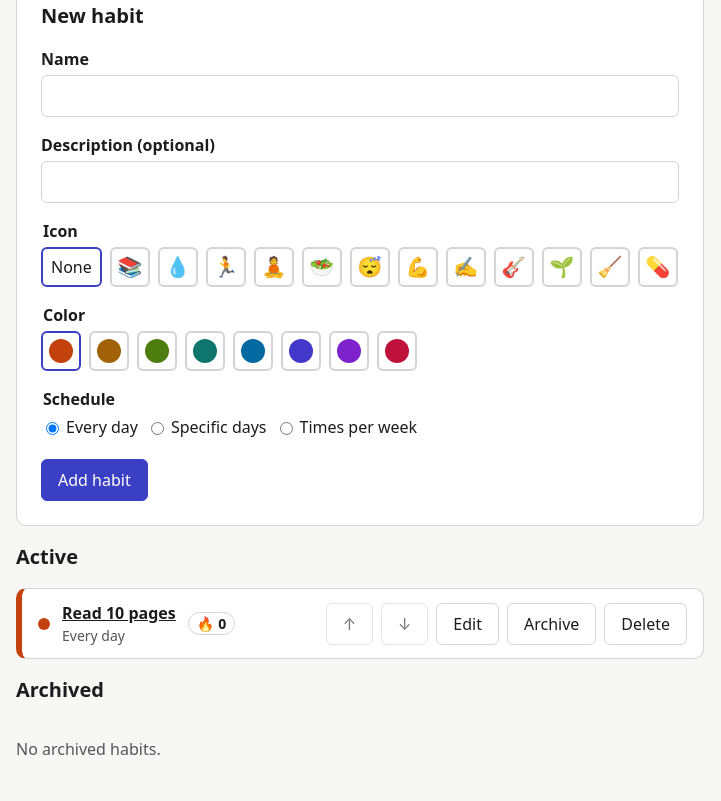
Test: spec 002 US2 - Edit a habit › given an existing habit, when renamed and saved, then the new name shows
(page scrolled)
Click the button with aria-label "Edit Read 10 pages": (468,624) [436,602,499,644]
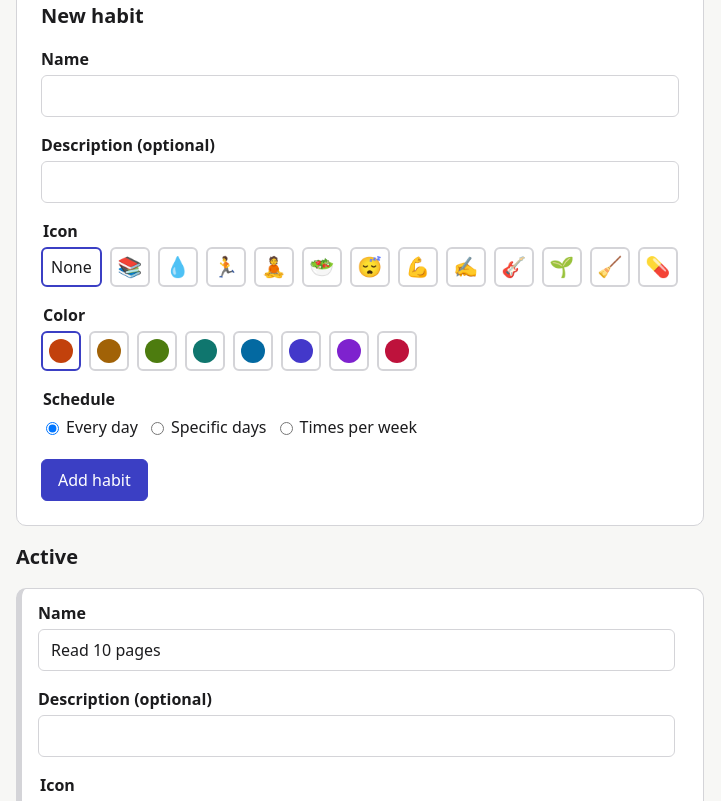
Replace the text in the field labelled "Name" below "Active" with "Read 20 pages": (356,650) [38,629,675,671]
(page scrolled)
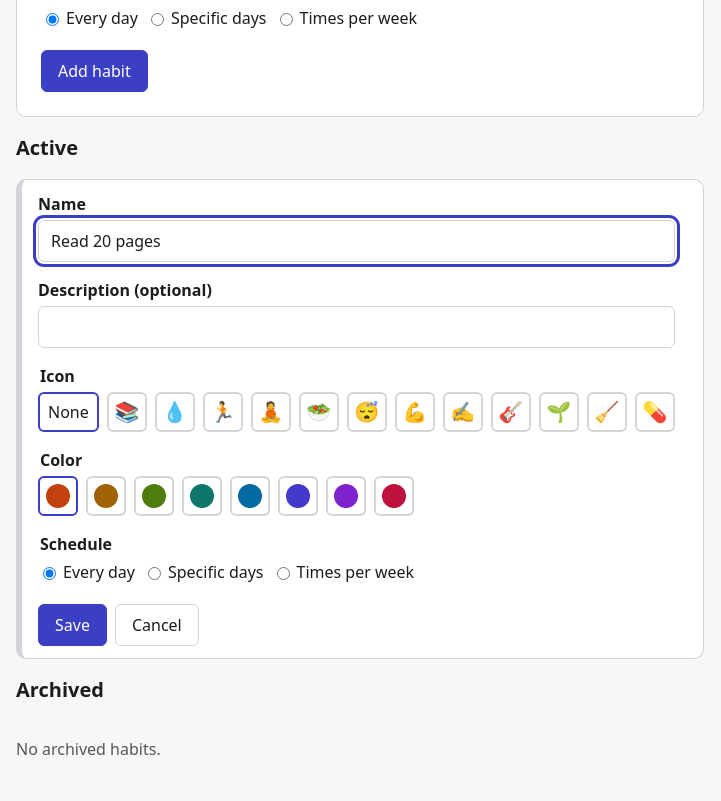
Click the button "Save": (72,625) [38,604,107,646]
(page scrolled)
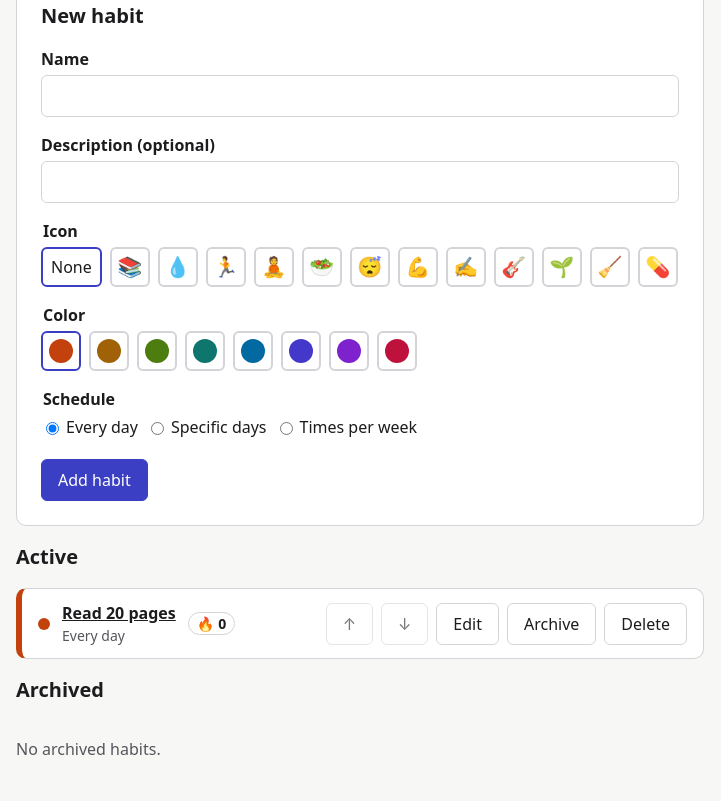
Now the link "Read 20 pages" is shown, box [62,602,176,624]
